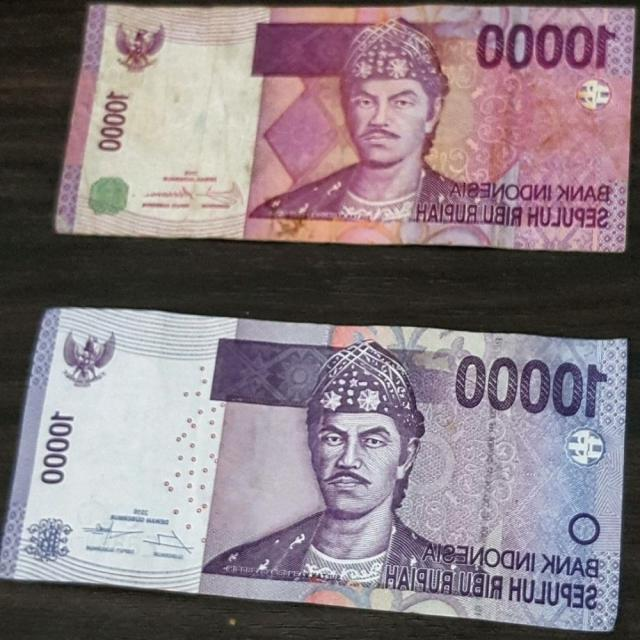sepuluh ribu rupiah: (38, 299, 626, 625), (48, 5, 636, 252)
